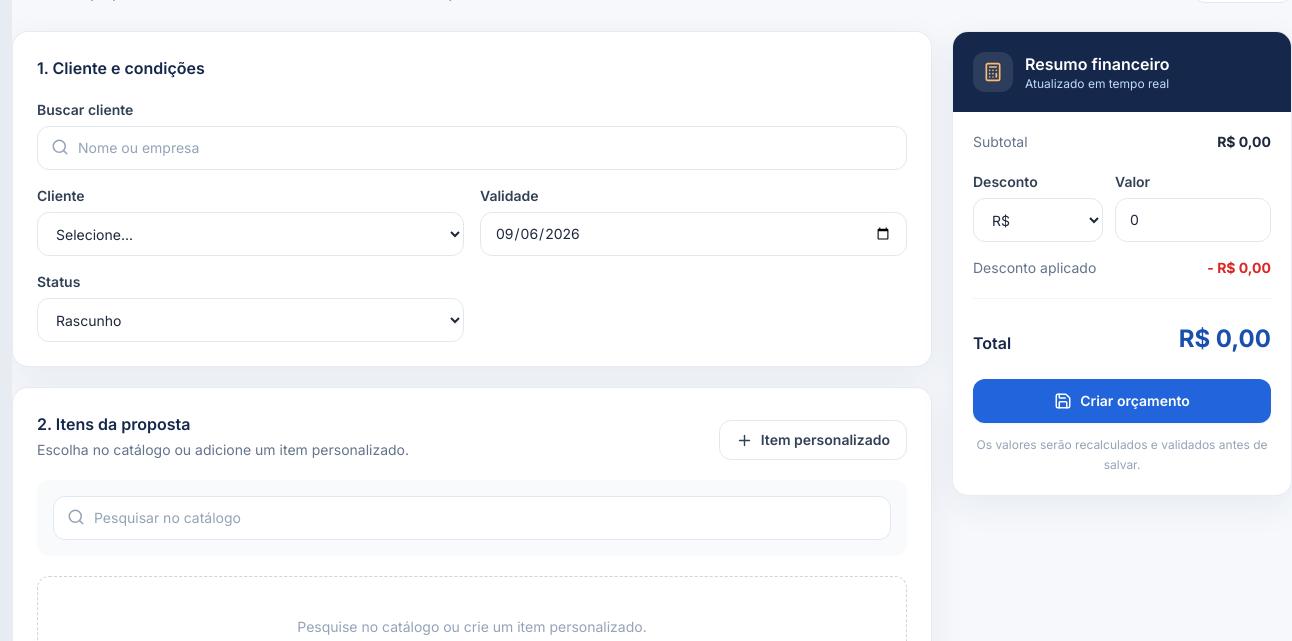
Test: QuoteFormPage (erros de validação do backend, criação) › erro conhecido em campo simples (discount_value) aparece no campo, sem toast global
The width and height of the screenshot is (1292, 641).
Select "Cliente Teste" in the dropdown labelled "Cliente": (250, 234) [37,212,464,256]
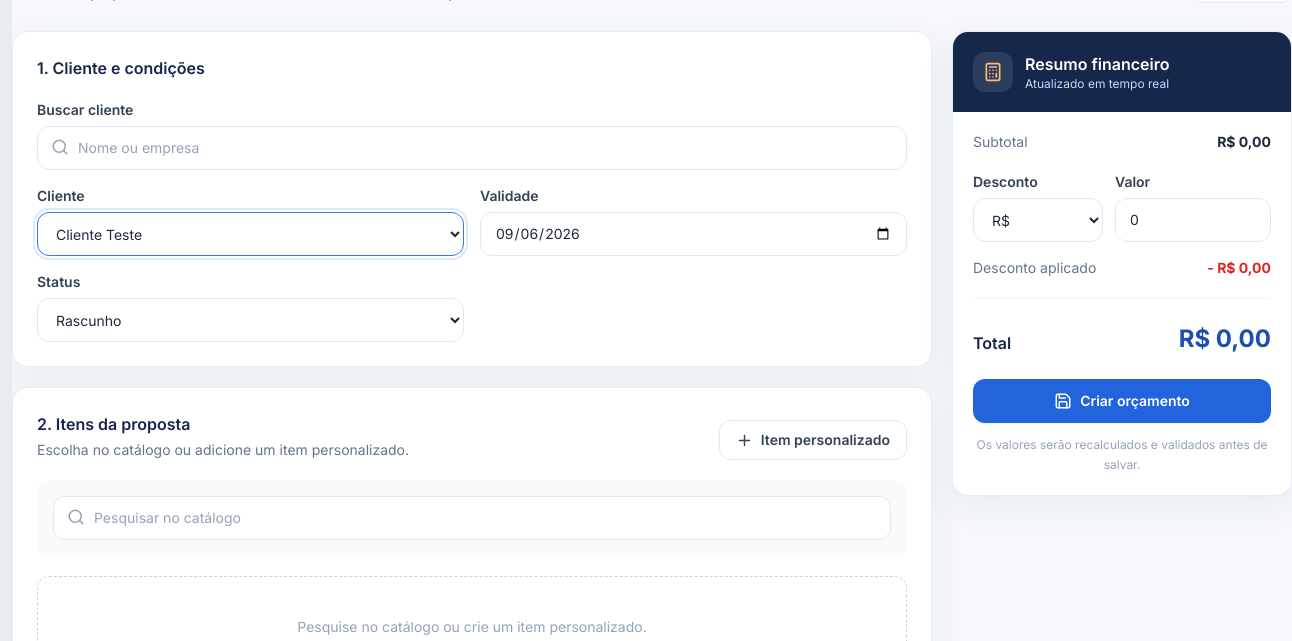
Click the button "Item personalizado": (813, 440) [719,420,907,460]
(page scrolled)
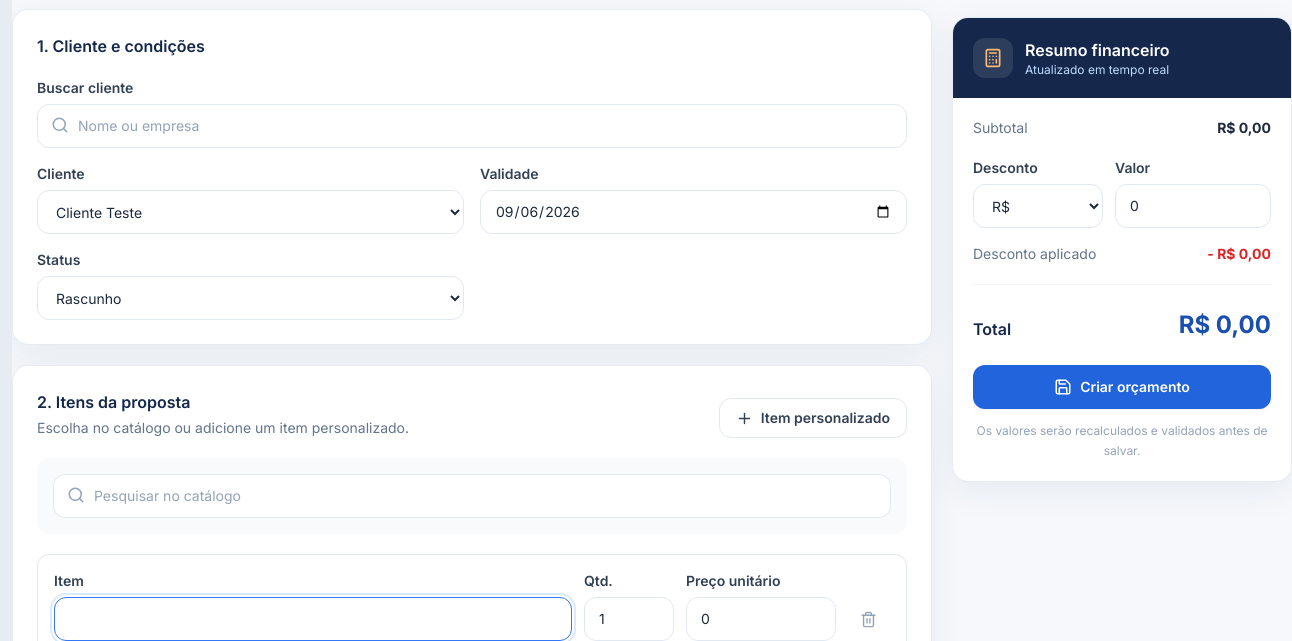
In the field labelled "Item": (313, 619) [54,597,572,640], type "Item Teste"
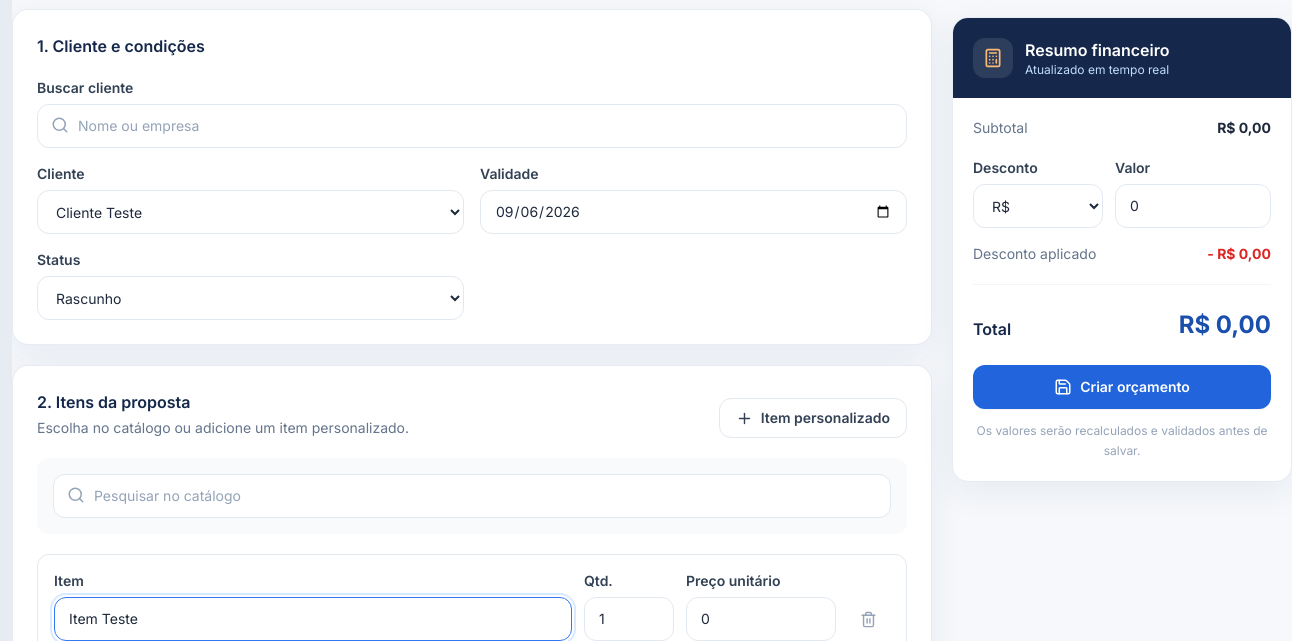
Click the button "Criar orçamento": (1122, 387) [973,365,1271,409]
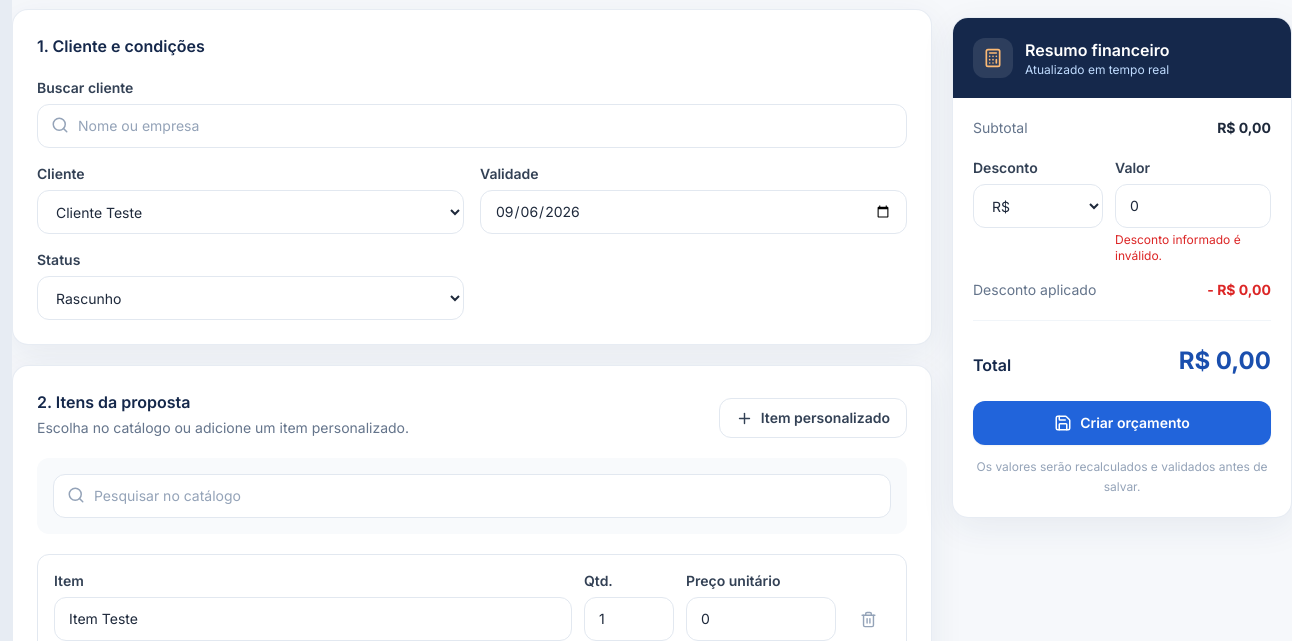
Expected: the text "Desconto informado é inválido." is shown, [1115,232,1241,263]
